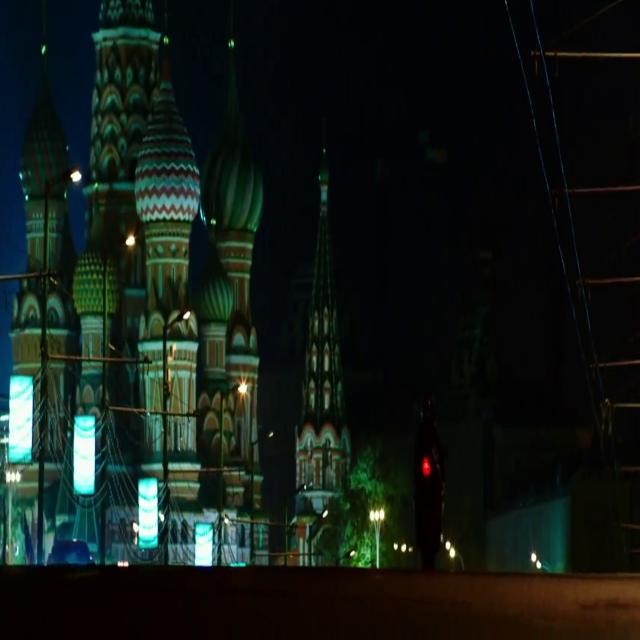Motorbike: (408, 394, 448, 571)
